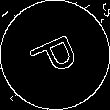P_NE: (24, 28, 86, 82)
